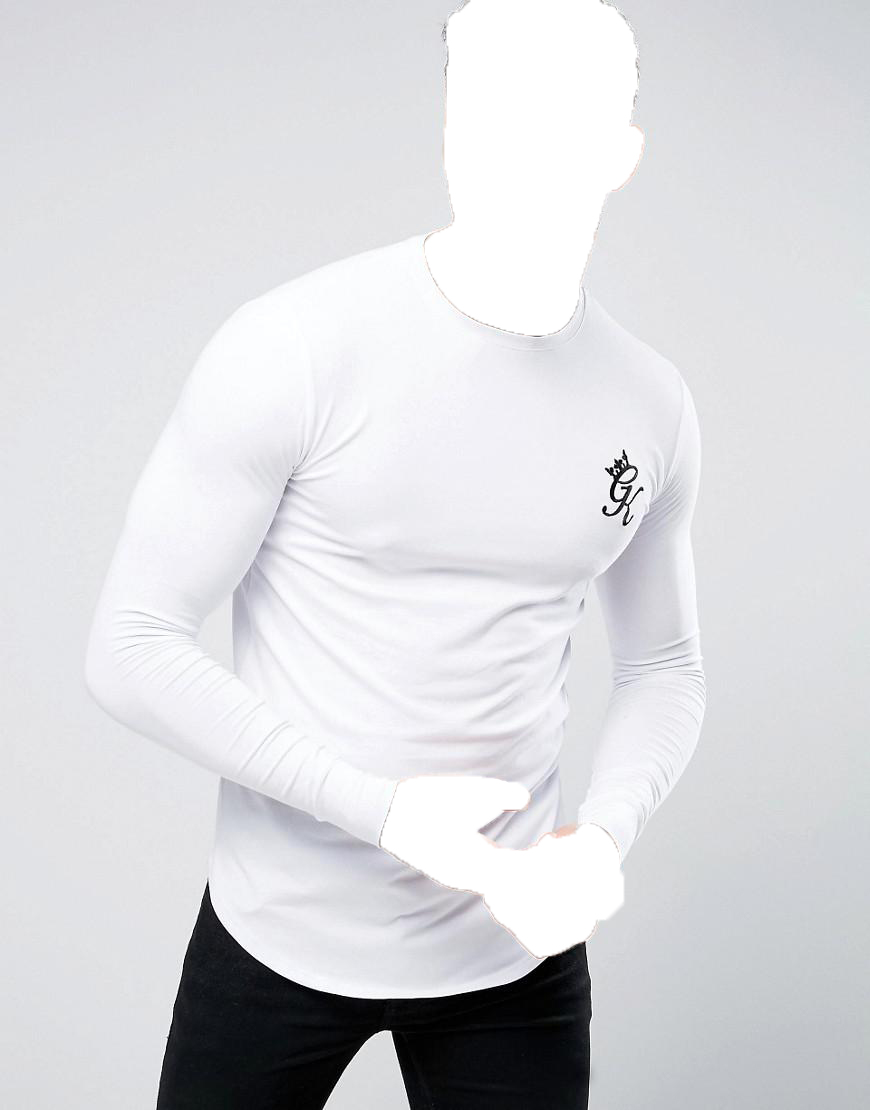teeshirt: (74, 240, 712, 1007)
